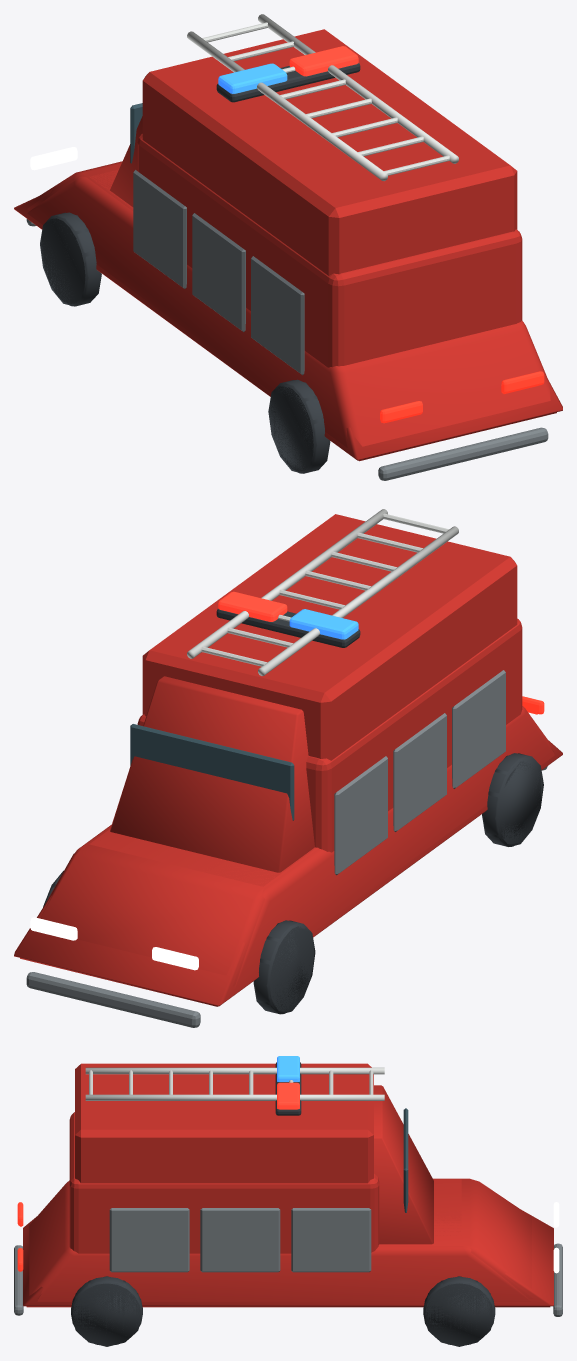
Rendered from fire_engine.glb.
The picture shows the model from 3 angles, top to bottom: view 1: azimuth 30°, elevation 25°; view 2: azimuth 150°, elevation 25°; view 3: azimuth 270°, elevation 25°; orthographic projection. The views are drawn at different scales.
Visible parts, largest first — view 1: LOD1_fire_engine_Upper, LOD0_fire_engine_LowerBody, LOD0_fire_engine_EquipmentBody, LOD0_fire_engine, LOD2_fire_engine_Body, LOD0_fire_engine_Wheel_FL, LOD0_fire_engine_Wheel_RL, LOD0_fire_engine_RearBumper, LOD1_fire_engine_Wheel_RL, LOD0_fire_engine_RoofLadderRail_-0.42, LOD0_fire_engine_RoofLadderRail_+0.42, LOD0_fire_engine_LightbarBlue (+8 smaller); view 2: LOD1_fire_engine_Upper, LOD2_fire_engine_Upper, LOD1_fire_engine_Body, LOD0_fire_engine_LowerBody, LOD0_fire_engine, LOD0_fire_engine_EquipmentBody, LOD2_fire_engine_Body, LOD1_fire_engine_GlassBand, LOD0_fire_engine_Wheel_FL, LOD1_fire_engine_Wheel_RL, LOD0_fire_engine_FrontBumper, LOD0_fire_engine_RoofLadderRail_-0.42 (+8 smaller); view 3: LOD1_fire_engine_Upper, LOD0_fire_engine_LowerBody, LOD0_fire_engine, LOD0_fire_engine_EquipmentBody, LOD1_fire_engine_Body, LOD2_fire_engine_Upper, LOD2_fire_engine_Body, LOD1_fire_engine_Wheel_FR, LOD1_fire_engine_Wheel_RR, LOD0_fire_engine_Wheel_RR, LOD0_fire_engine_Wheel_FR, LOD0_fire_engine_RoofLadderRail_-0.42 (+6 smaller).
Part boxes in pixels (box(x1,y1,x2,y2)): LOD1_fire_engine_Upper: box(142, 29, 517, 275); LOD0_fire_engine_LowerBody: box(27, 169, 554, 460); LOD0_fire_engine_EquipmentBody: box(137, 134, 522, 367); LOD0_fire_engine: box(133, 22, 449, 375); LOD2_fire_engine_Body: box(14, 190, 562, 460); LOD0_fire_engine_Wheel_FL: box(41, 212, 100, 306); LOD0_fire_engine_Wheel_RL: box(270, 379, 328, 473); LOD0_fire_engine_RearBumper: box(378, 427, 548, 480); LOD1_fire_engine_Wheel_RL: box(268, 380, 330, 473); LOD0_fire_engine_RoofLadderRail_-0.42: box(187, 31, 387, 181); LOD0_fire_engine_RoofLadderRail_+0.42: box(258, 14, 458, 163); LOD0_fire_engine_LightbarBlue: box(218, 63, 287, 93); LOD1_fire_engine_Upper: box(142, 514, 517, 760); LOD2_fire_engine_Upper: box(110, 676, 314, 872); LOD1_fire_engine_Body: box(20, 747, 553, 1006); LOD0_fire_engine_LowerBody: box(75, 706, 554, 989); LOD0_fire_engine: box(201, 513, 505, 875); LOD0_fire_engine_EquipmentBody: box(137, 618, 522, 852); LOD2_fire_engine_Body: box(14, 739, 562, 1006); LOD1_fire_engine_GlassBand: box(130, 724, 294, 820); LOD0_fire_engine_Wheel_FL: box(255, 920, 314, 1014); LOD1_fire_engine_Wheel_RL: box(482, 753, 543, 846); LOD0_fire_engine_FrontBumper: box(26, 972, 200, 1027); LOD0_fire_engine_RoofLadderRail_-0.42: box(258, 526, 458, 675); LOD1_fire_engine_Upper: box(75, 1063, 373, 1183); LOD0_fire_engine_LowerBody: box(29, 1179, 531, 1301); LOD0_fire_engine: box(89, 1070, 373, 1272); LOD0_fire_engine_EquipmentBody: box(69, 1112, 379, 1253); LOD1_fire_engine_Body: box(26, 1178, 550, 1307); LOD2_fire_engine_Upper: box(374, 1085, 433, 1244); LOD2_fire_engine_Body: box(23, 1210, 553, 1306); LOD1_fire_engine_Wheel_FR: box(423, 1276, 495, 1346); LOD1_fire_engine_Wheel_RR: box(71, 1276, 142, 1346); LOD0_fire_engine_Wheel_RR: box(71, 1276, 142, 1344); LOD0_fire_engine_Wheel_FR: box(423, 1276, 495, 1344); LOD0_fire_engine_RoofLadderRail_-0.42: box(85, 1067, 384, 1074).
Size of what is drawn, in the model's own units: 2.71 by 3.3 by 7.3.
